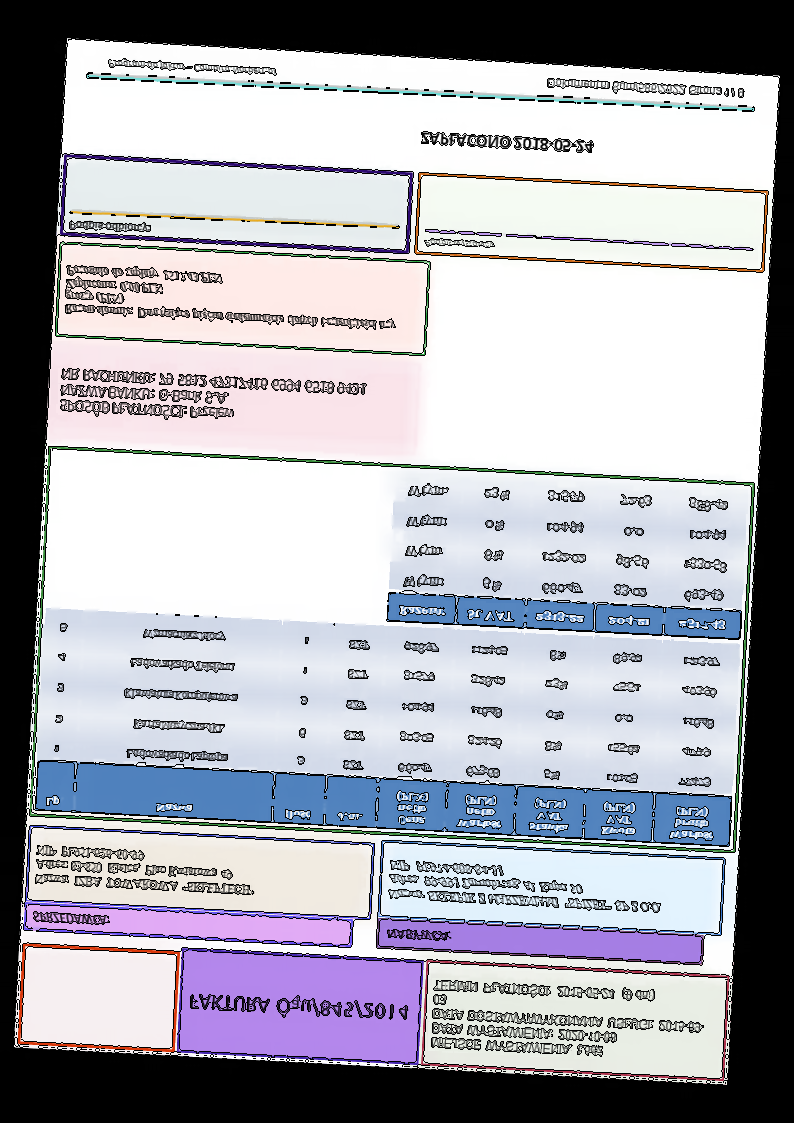Table: (33, 608, 739, 850), (386, 468, 750, 642)
TextBox: (427, 975, 709, 1067), (61, 262, 401, 336), (57, 362, 371, 433), (385, 859, 665, 917), (31, 840, 259, 901), (186, 987, 411, 1027), (419, 128, 597, 158), (543, 76, 745, 102), (105, 56, 277, 80), (66, 217, 154, 237), (421, 233, 497, 256), (31, 908, 112, 929), (382, 924, 454, 946)
